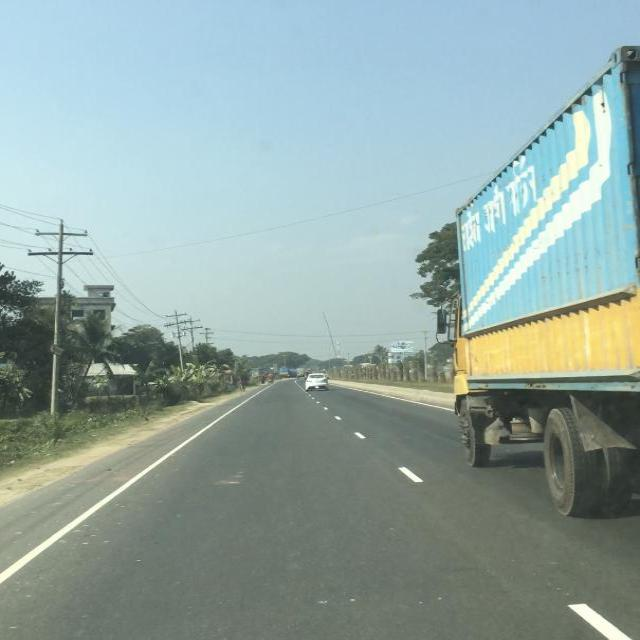car: (300, 373, 327, 391)
truck: (433, 39, 638, 529)
